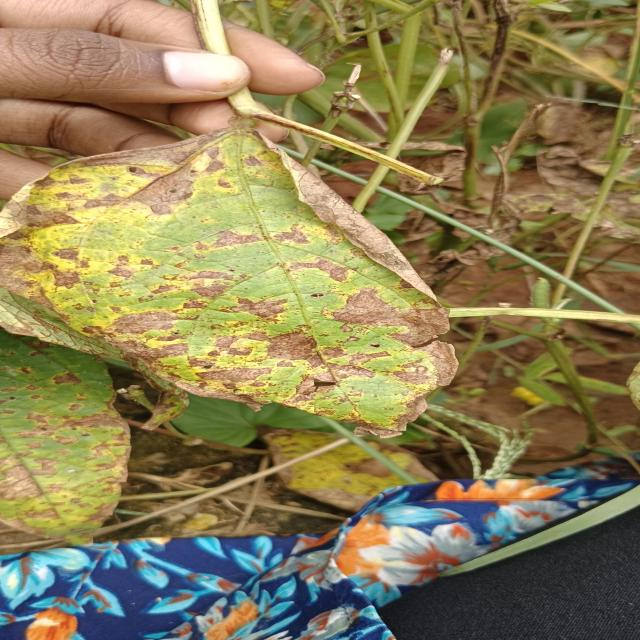Black gram_leaf spot: (0, 114, 476, 440), (0, 325, 147, 551)
